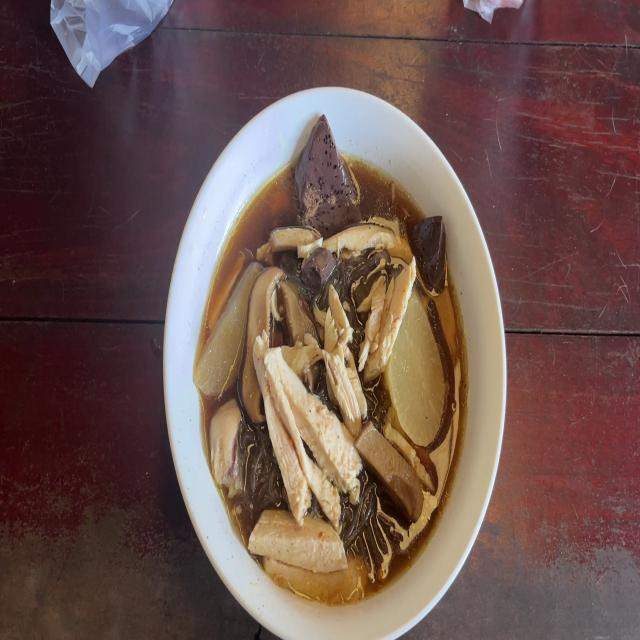noodle: (292, 119, 362, 238), (409, 208, 449, 286), (303, 248, 337, 291)
